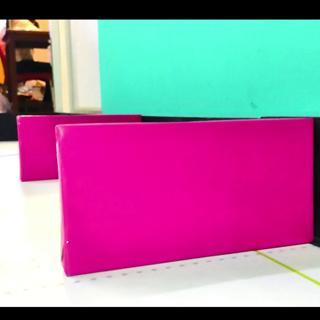xparking: (64, 126, 311, 277), (19, 115, 54, 180)
